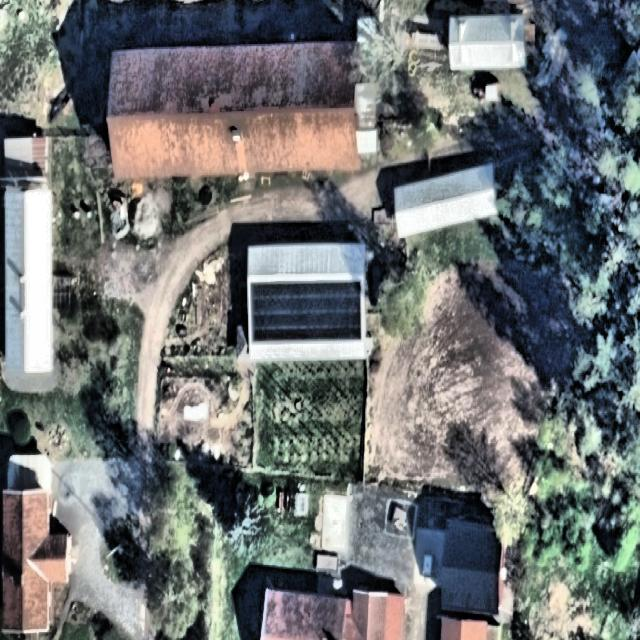roof_pv: (248, 278, 365, 344)
